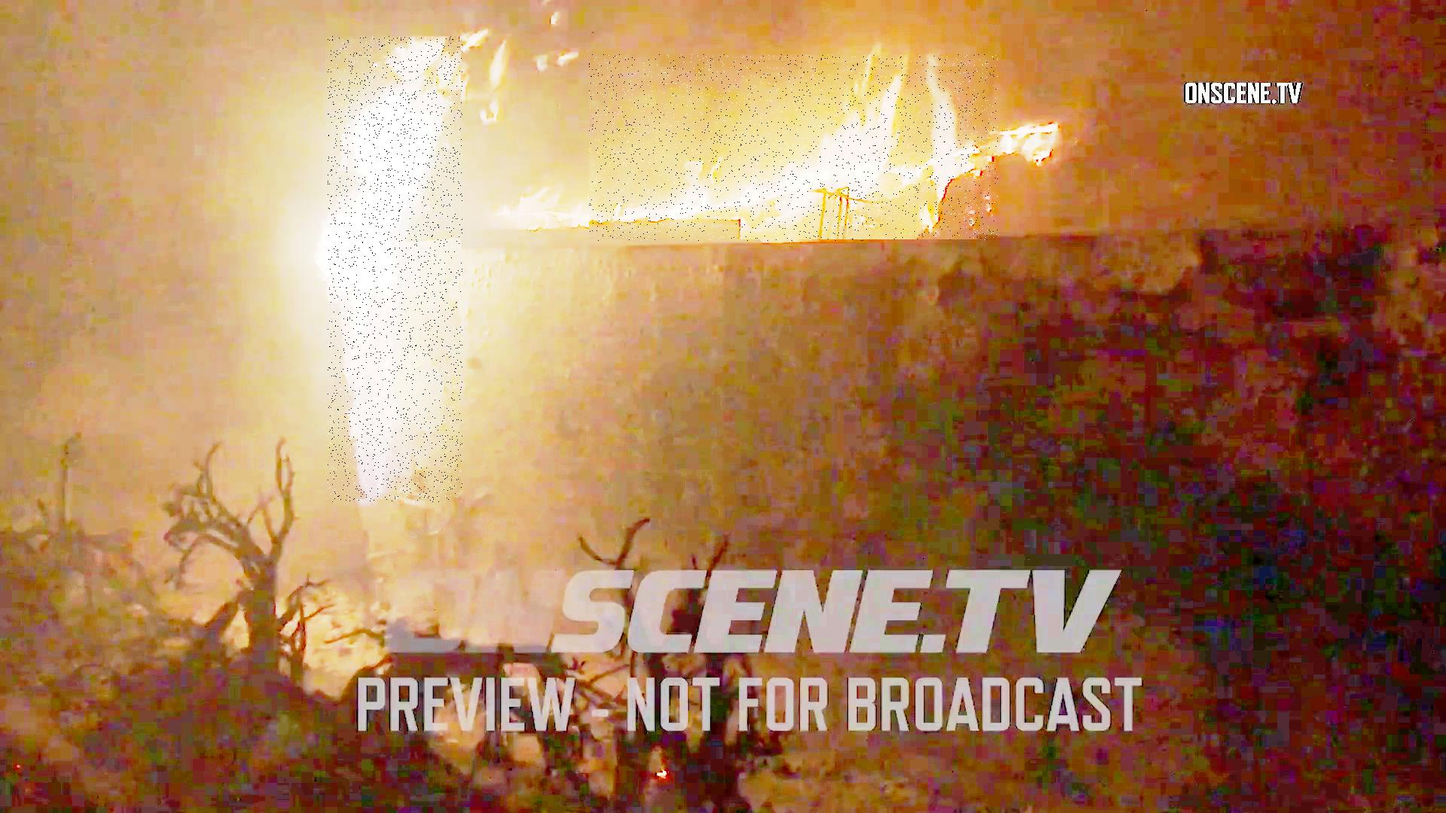fire: (590, 55, 998, 241), (328, 37, 463, 503)
